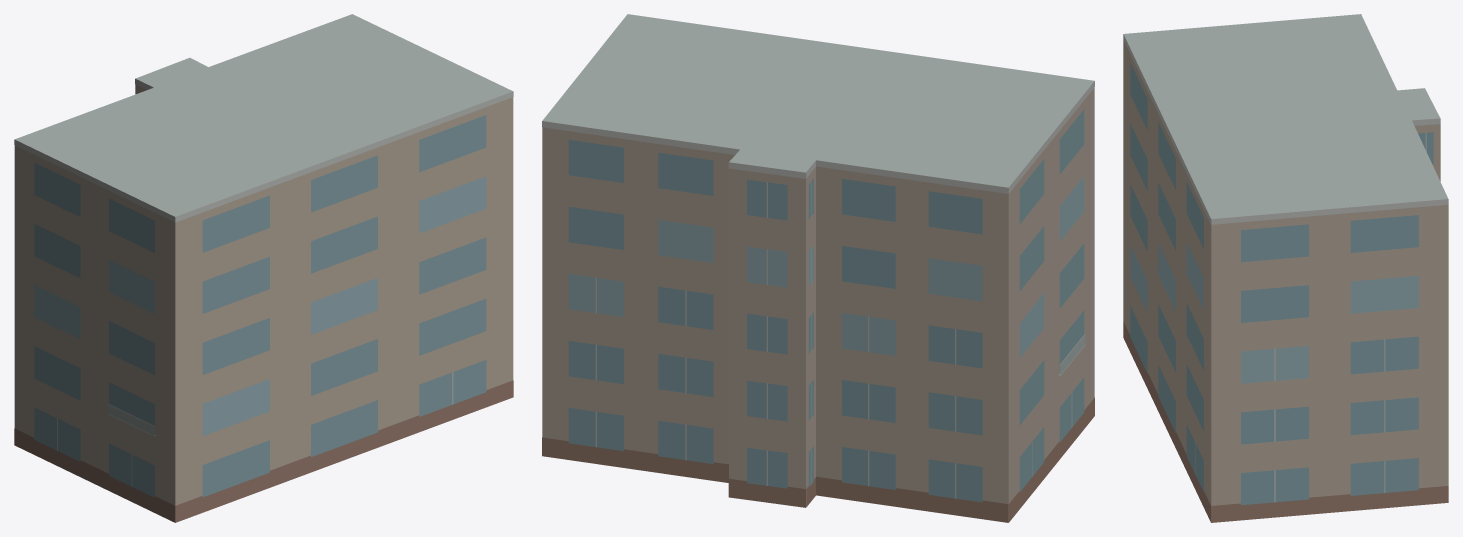
The model's file is survey-upis-32642658.glb.
3 views of the same model, side by side, from view 1: azimuth 30°, elevation 25°; view 2: azimuth 150°, elevation 25°; view 3: azimuth 270°, elevation 25° (orthographic). The views are drawn at different scales.
Parts seen in each view (by area): view 1: survey-upis-32642658.tmp; view 2: survey-upis-32642658.tmp; view 3: survey-upis-32642658.tmp.
Boxes of the visible parts, bbox=[...] form: survey-upis-32642658.tmp: bbox=[14, 14, 513, 522]; survey-upis-32642658.tmp: bbox=[542, 14, 1094, 522]; survey-upis-32642658.tmp: bbox=[1123, 14, 1448, 522].
Size of the model in its own units: 18.98 by 13.1 by 12.72.
